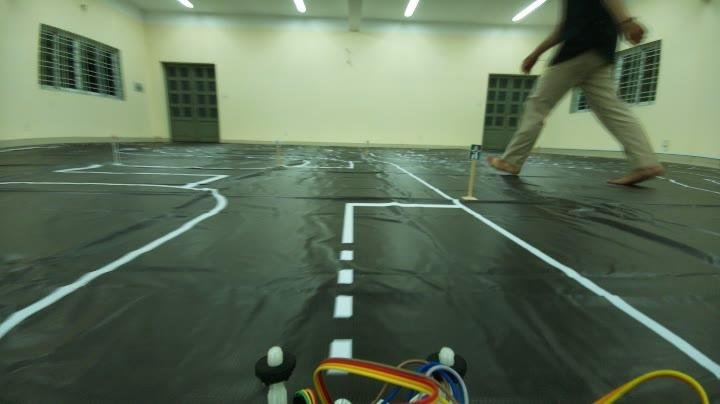highway_exit: (466, 138, 486, 164)
